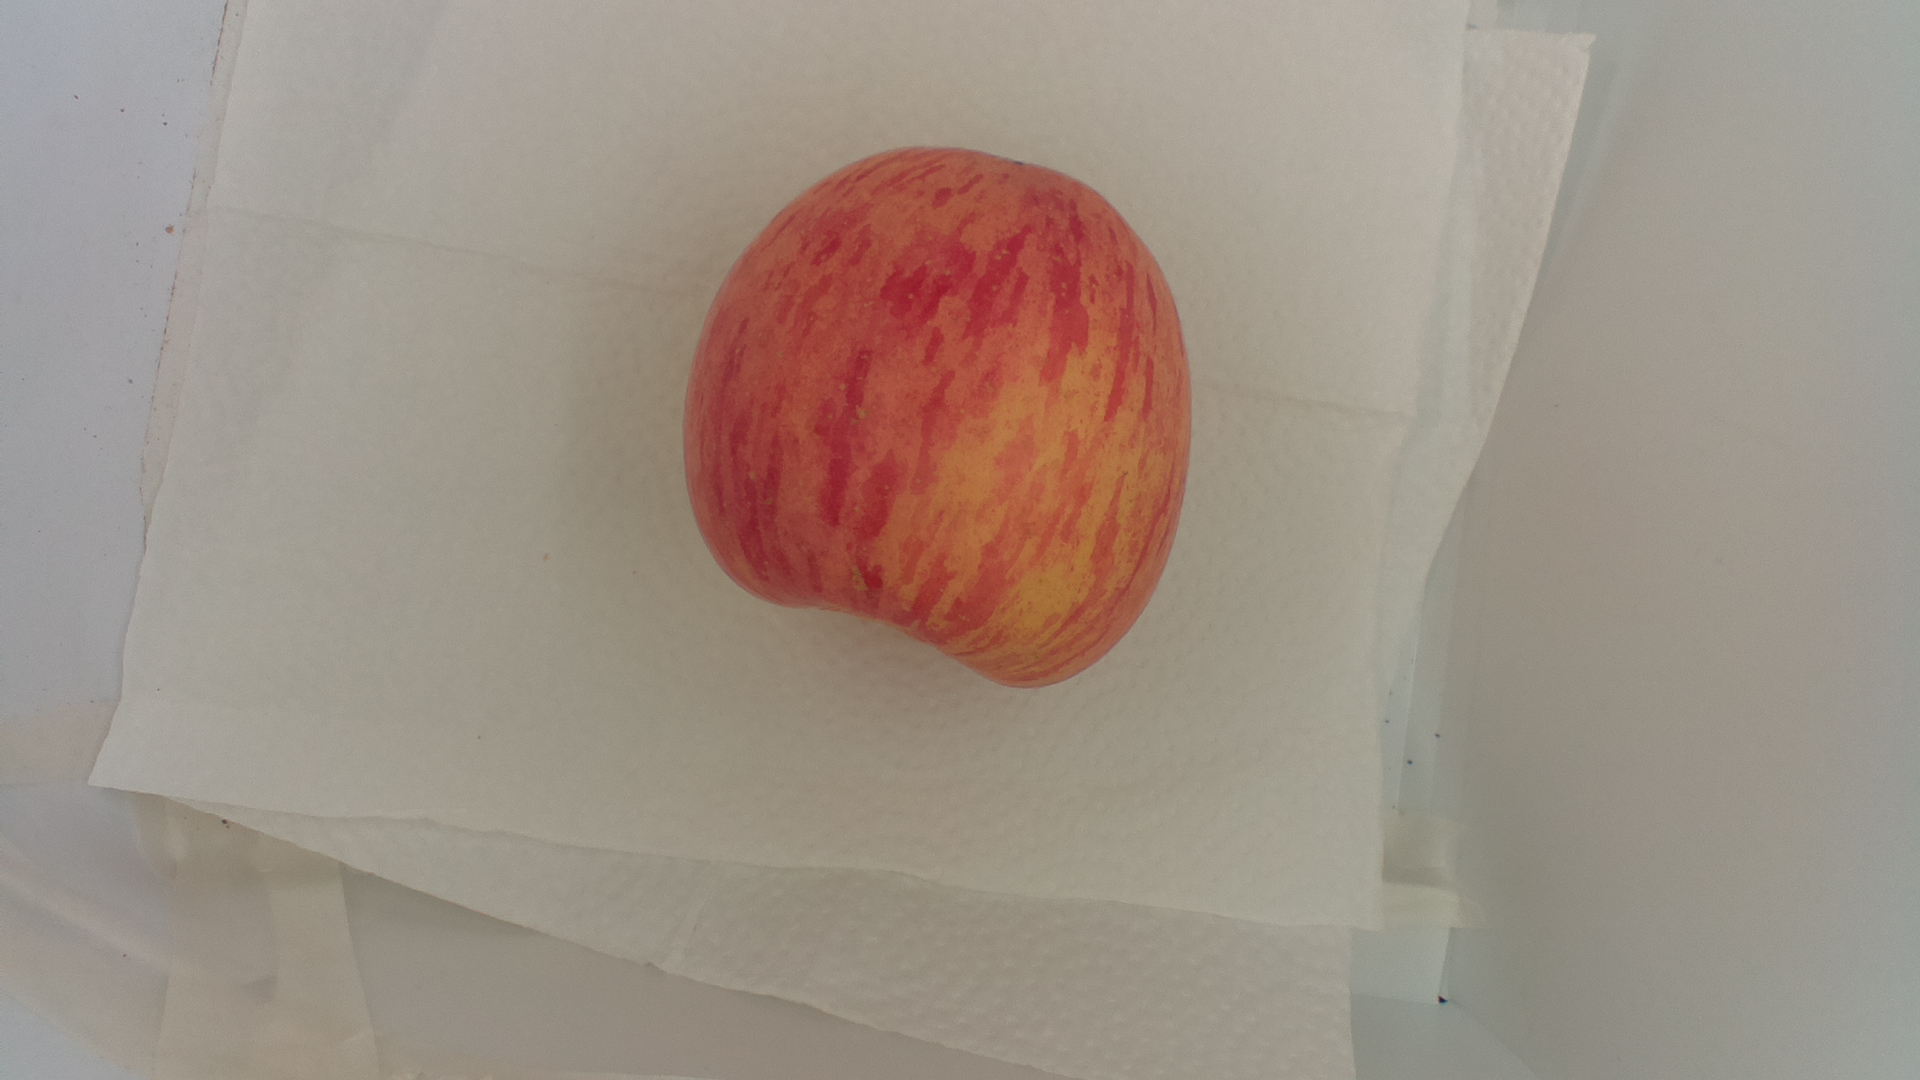fruit: (680, 141, 1199, 695)
